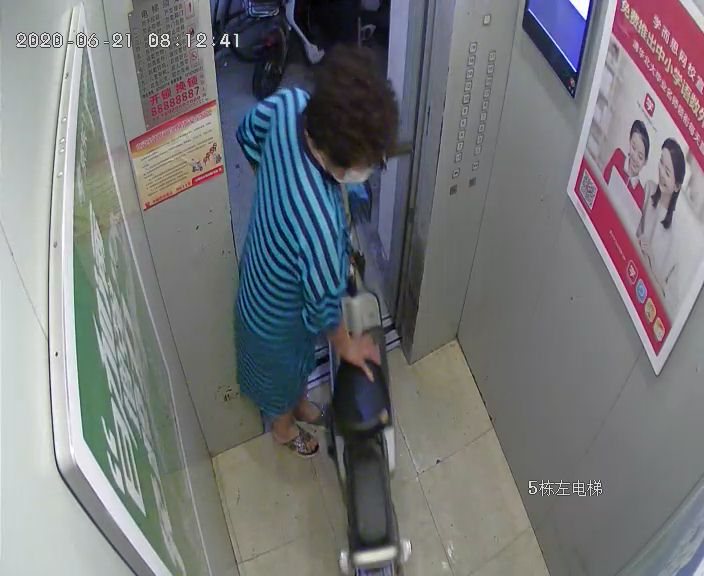Electric-bicycle: (312, 129, 415, 576)
